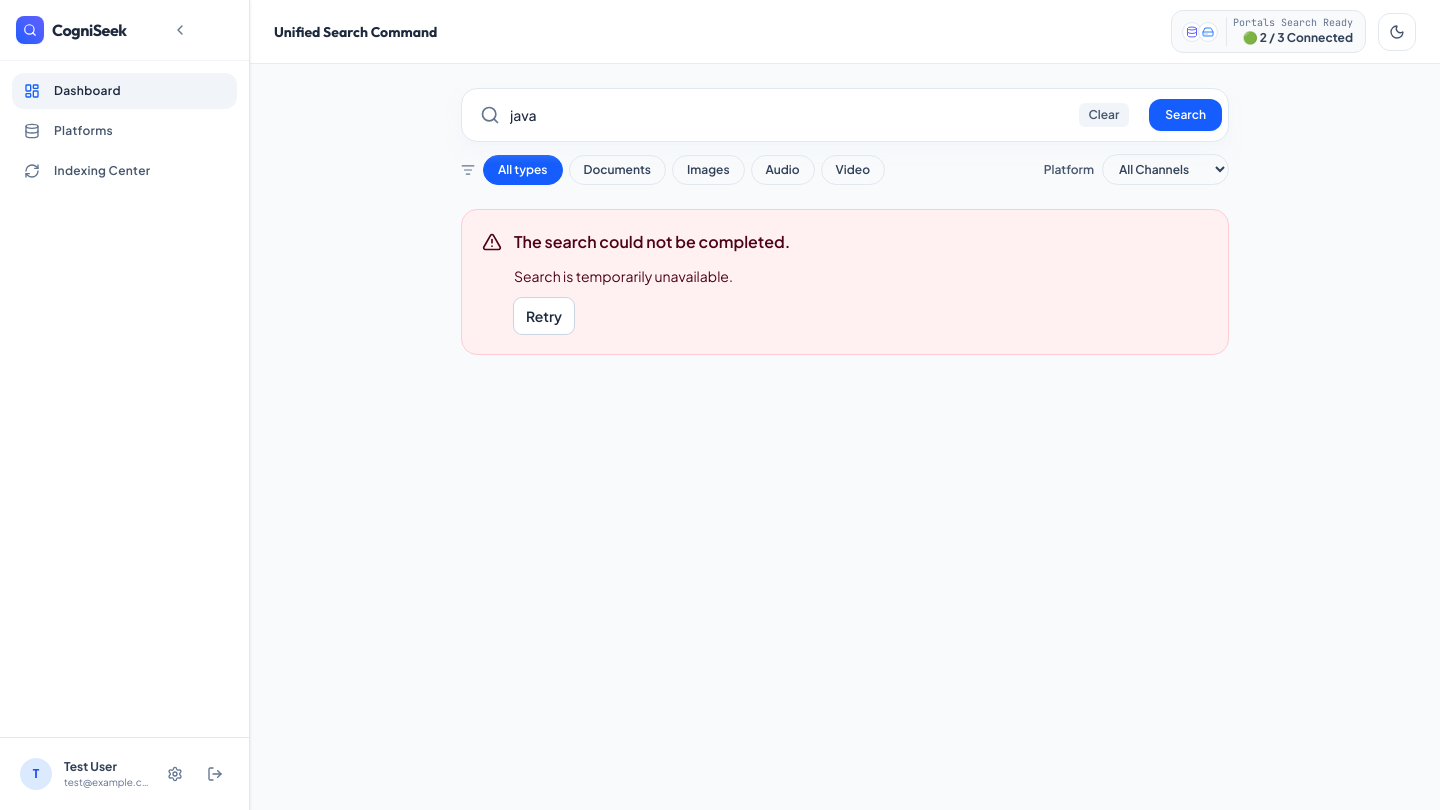
Test: search › shows the backend detail on an error and retries
Expected: the message shows "Search is temporarily unavailable.", [514,267,733,285]
Click the button "Retry".
click(544, 316)  # box [514,298,574,334]
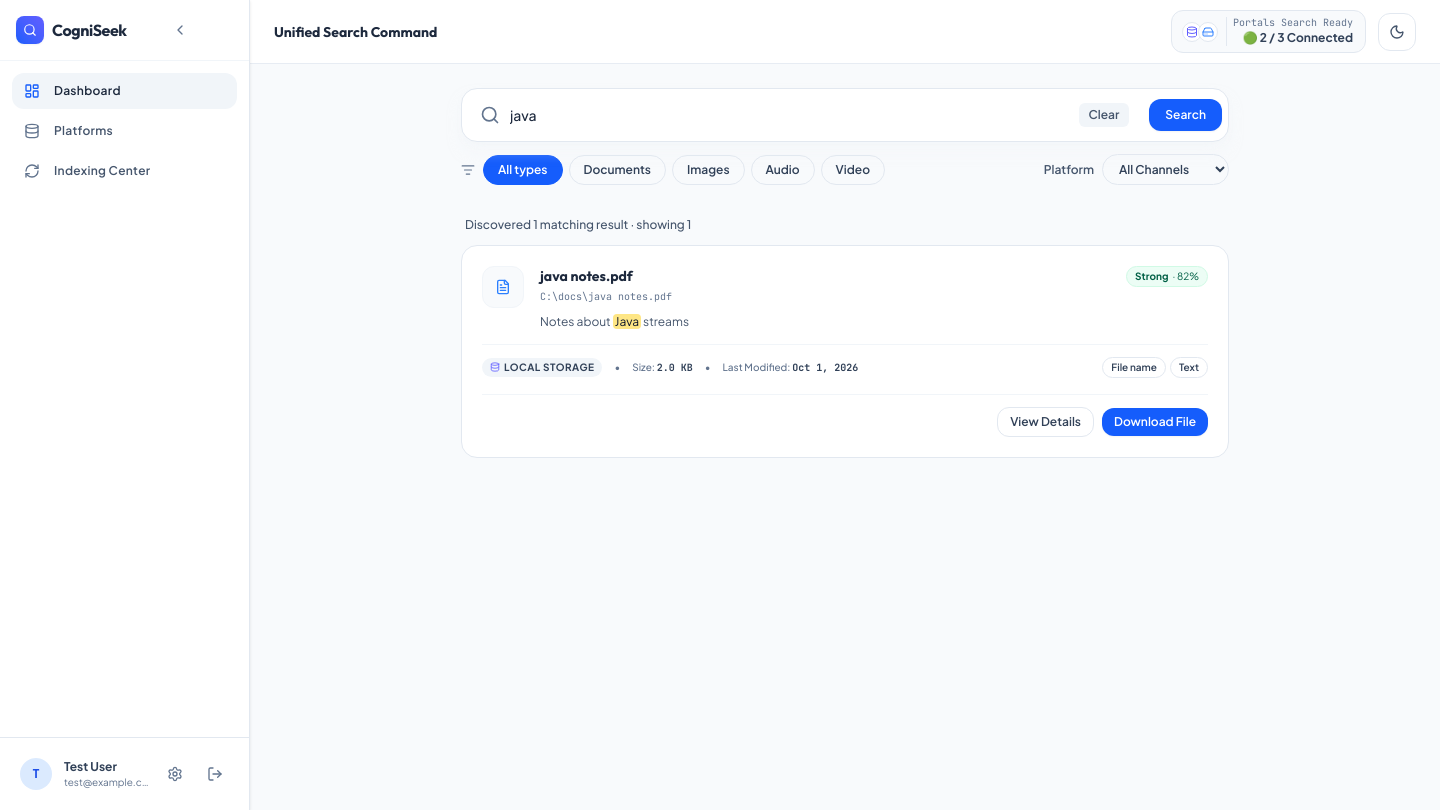
Result: the heading "java notes.pdf" is shown at [540,266,641,286]
